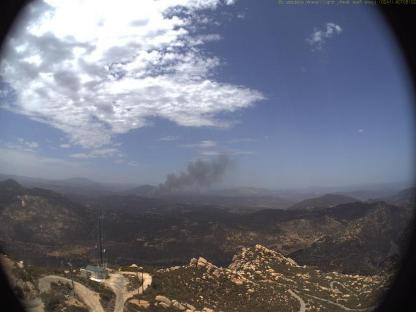smoke: (144, 150, 238, 199)
